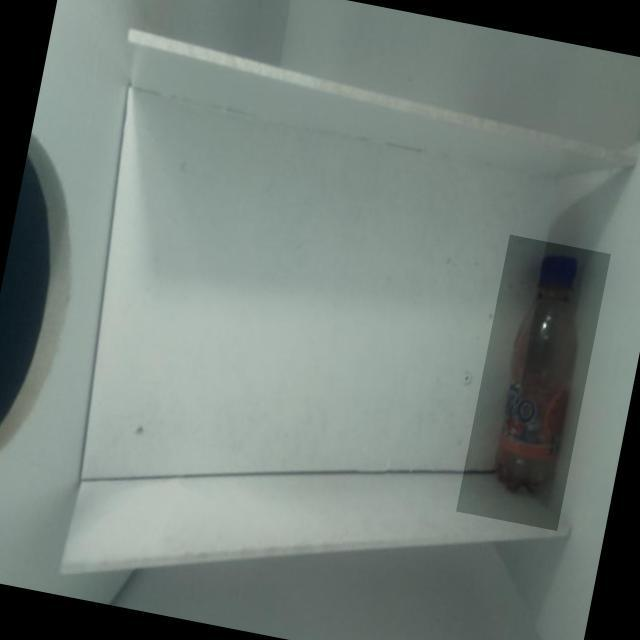good: (456, 234, 611, 530)
